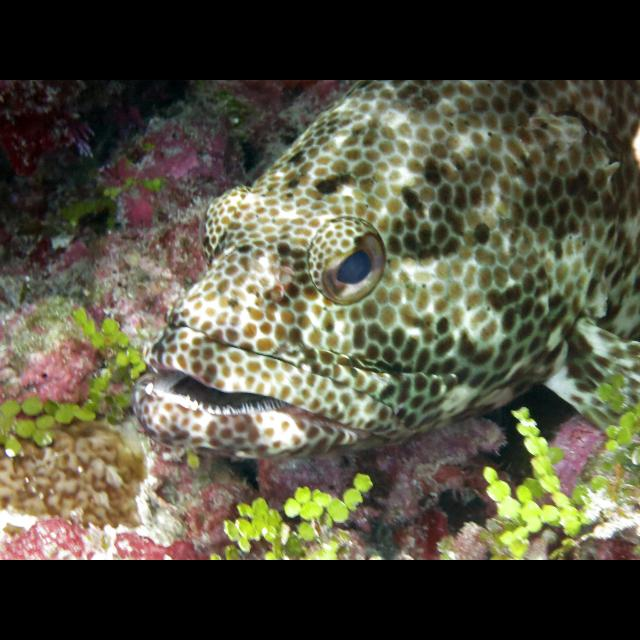Groupers: (140, 80, 640, 453)
